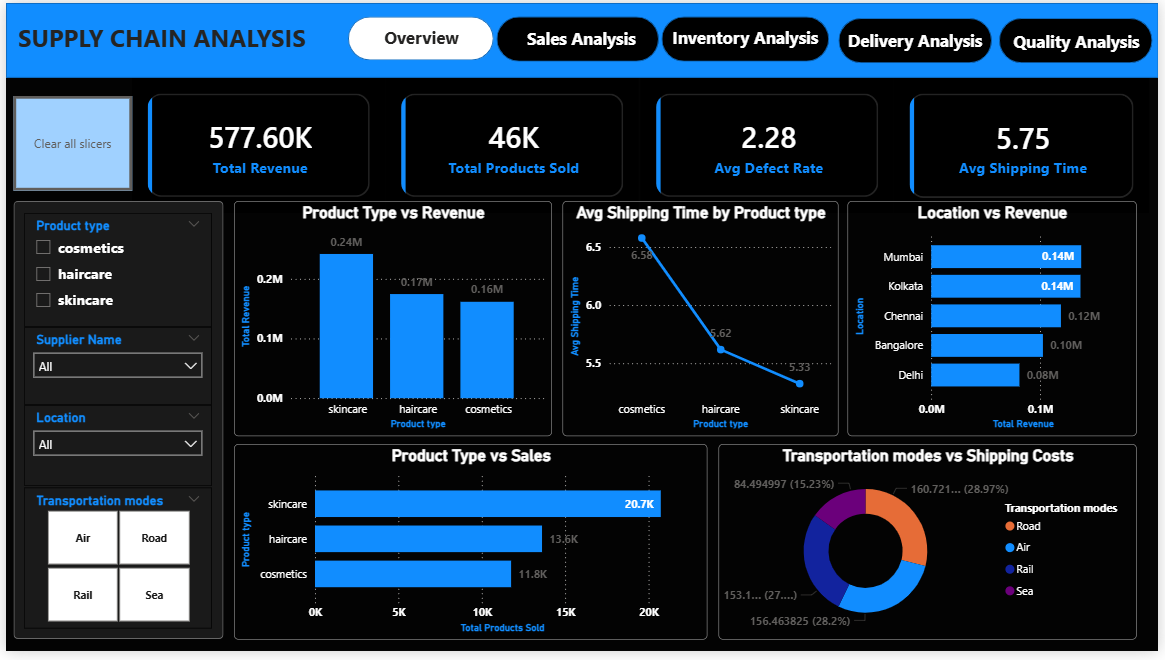

The page's visual inventory and layout, read from the dashboard file:
{"tool":"powerbi","page":{"name":"Overview","canvas":[1280,720],"ordinal":0},"visuals":[{"type":"shape","box":[0,0,1280.6,83.1],"z":0},{"type":"cardVisual","fields":{"Data":["supply_chain_data.Total Revenue"]},"box":[139.7,83,281.5,149.9],"z":1000},{"type":"cardVisual","fields":{"Data":["supply_chain_data.Avg Shipping Time"]},"box":[986.7,83.3,283.3,150],"z":2000},{"type":"cardVisual","fields":{"Data":["supply_chain_data.Avg Defect Rate"]},"box":[704.8,83,281.5,149.9],"z":3000},{"type":"textbox","box":[8.6,15.8,356.7,61.6],"z":4000},{"type":"shape","box":[379.6,15.8,161.9,48.7],"z":5000,"group":"g1"},{"type":"shape","box":[544.3,15.8,180.5,50.1],"z":6000},{"type":"shape","box":[729.1,15.8,186.2,50.1],"z":7000},{"type":"shape","box":[925.3,17.2,170.5,50.1],"z":8000},{"type":"shape","box":[1102.9,17.2,170.5,50.1],"z":9000},{"type":"actionButton","box":[8.3,103.3,131.7,105],"z":10000},{"type":"textbox","box":[399.7,21.5,123.2,38.7],"z":11000,"group":"g1"},{"type":"textbox","box":[568.7,21.5,141.8,38.7],"z":12000},{"type":"textbox","box":[729.1,20.1,186.2,41.5],"z":13000},{"type":"textbox","box":[923.9,22.9,173.3,38.7],"z":14000},{"type":"textbox","box":[1108.7,24.4,161.9,35.8],"z":15000},{"type":"cardVisual","fields":{"Data":["supply_chain_data.Total Products Sold"]},"box":[421.3,83,281.5,149.9],"z":16000},{"type":"clusteredColumnChart","title":"Product Type vs Revenue","fields":{"Category":["supply_chain_data.Product type"],"Y":["supply_chain_data.Total Revenue"]},"box":[253.3,220,353.3,261.1],"z":17000},{"type":"clusteredBarChart","title":"Product Type vs Sales","fields":{"Category":["supply_chain_data.Product type"],"Y":["supply_chain_data.Total Products Sold"]},"box":[253.6,489.9,526.1,217.4],"z":18000},{"type":"lineChart","fields":{"Category":["supply_chain_data.Product type"],"Y":["supply_chain_data.Avg Shipping Time"]},"box":[617.8,220,306.7,261.1],"z":19000},{"type":"donutChart","title":"Transportation modes vs Shipping Costs","fields":{"Category":["supply_chain_data.Transportation modes"],"Y":["supply_chain_data.Total Shipping Cost"]},"box":[792.3,489.9,464.6,217.4],"z":20000},{"type":"clusteredBarChart","title":"Location vs Revenue","fields":{"Category":["supply_chain_data.Location"],"Y":["supply_chain_data.Total Revenue"]},"box":[935.6,220,321.1,261.1],"z":21000},{"type":"shape","box":[8.3,220,233.3,486.7],"z":22000},{"type":"slicer","fields":{"Values":["supply_chain_data.Product type"]},"box":[20,233.3,208.3,126.7],"z":23000},{"type":"slicer","fields":{"Values":["supply_chain_data.Location"]},"box":[20,446.7,208.3,90],"z":24000},{"type":"slicer","fields":{"Values":["supply_chain_data.Transportation modes"]},"box":[20,538.3,208.3,156.7],"z":25000},{"type":"group","id":"g1","title":"Group 1","box":[379.6,15.8,161.9,48.7],"z":25001},{"type":"slicer","fields":{"Values":["supply_chain_data.Supplier name"]},"box":[20,360,208.3,86.7],"z":25002}]}

Visuals, with their boxes in screenshot pixels (x1, y1, x2, y2), scaled from the page's 1280x720 canvas onto the 1165x660 screenshot:
shape: [x1=0, y1=0, x2=1164, y2=76]
cardVisual - supply_chain_data.Total Revenue: [x1=127, y1=76, x2=383, y2=213]
cardVisual - supply_chain_data.Avg Shipping Time: [x1=898, y1=76, x2=1156, y2=214]
cardVisual - supply_chain_data.Avg Defect Rate: [x1=641, y1=76, x2=898, y2=213]
textbox: [x1=8, y1=14, x2=332, y2=71]
shape: [x1=345, y1=14, x2=493, y2=59]
shape: [x1=495, y1=14, x2=660, y2=60]
shape: [x1=664, y1=14, x2=833, y2=60]
shape: [x1=842, y1=16, x2=997, y2=62]
shape: [x1=1004, y1=16, x2=1159, y2=62]
actionButton: [x1=8, y1=95, x2=127, y2=191]
textbox: [x1=364, y1=20, x2=476, y2=55]
textbox: [x1=518, y1=20, x2=647, y2=55]
textbox: [x1=664, y1=18, x2=833, y2=56]
textbox: [x1=841, y1=21, x2=999, y2=56]
textbox: [x1=1009, y1=22, x2=1156, y2=55]
cardVisual - supply_chain_data.Total Products Sold: [x1=383, y1=76, x2=640, y2=213]
"Product Type vs Revenue" clusteredColumnChart: [x1=231, y1=202, x2=552, y2=441]
"Product Type vs Sales" clusteredBarChart: [x1=231, y1=449, x2=710, y2=648]
lineChart - supply_chain_data.Product type x supply_chain_data.Avg Shipping Time: [x1=562, y1=202, x2=841, y2=441]
"Transportation modes vs Shipping Costs" donutChart: [x1=721, y1=449, x2=1144, y2=648]
"Location vs Revenue" clusteredBarChart: [x1=852, y1=202, x2=1144, y2=441]
shape: [x1=8, y1=202, x2=220, y2=648]
slicer - supply_chain_data.Product type: [x1=18, y1=214, x2=208, y2=330]
slicer - supply_chain_data.Location: [x1=18, y1=409, x2=208, y2=492]
slicer - supply_chain_data.Transportation modes: [x1=18, y1=493, x2=208, y2=637]
"Group 1" group: [x1=345, y1=14, x2=493, y2=59]
slicer - supply_chain_data.Supplier name: [x1=18, y1=330, x2=208, y2=409]
